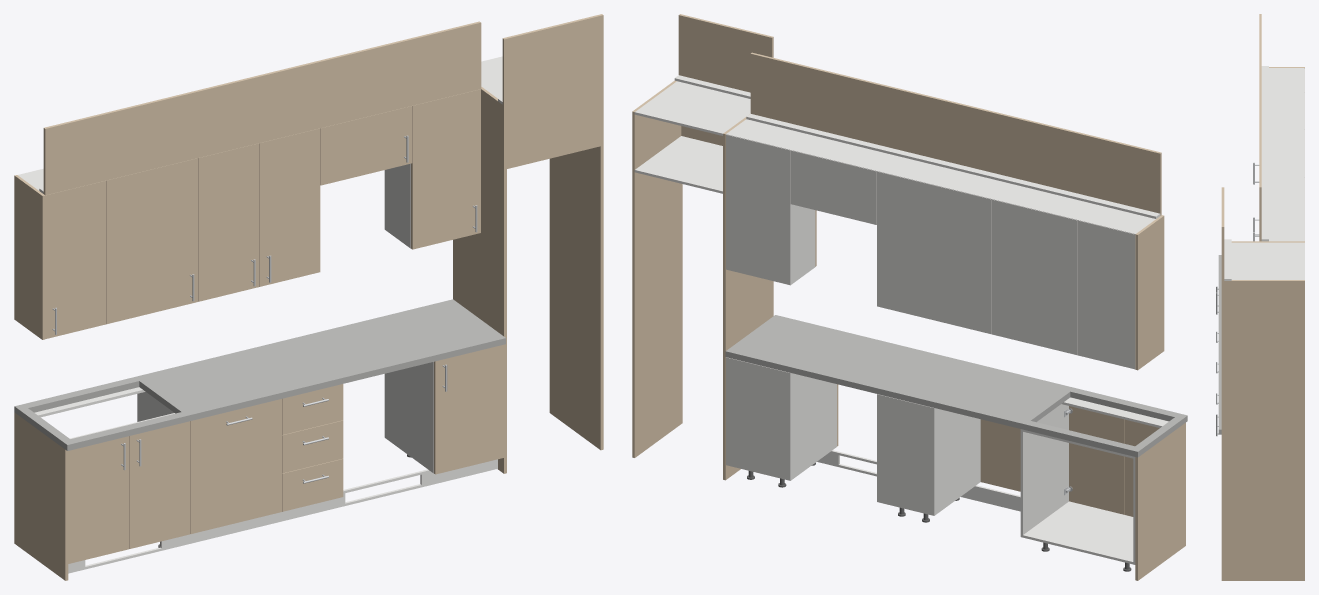
Rendered from kitchen_builtin.glb.
The picture shows the model from 3 angles, left to right: view 1: azimuth 30°, elevation 25°; view 2: azimuth 150°, elevation 25°; view 3: azimuth 270°, elevation 25°; orthographic projection. The views are drawn at different scales.
Visible parts, largest first — view 1: 50:countertop, 42:base[5].panel.right, 86:wall.top_filler[1], 88:wall.top_filler[2], 64:wall[1].doors.door[1], 8:base[1].dw_front, 85:wall[4].doors.door[1], 71:wall[2].doors.door[1], 72:wall[2].doors.door[2], 57:wall[0].doors.door[1], 41:base[5].panel.left, 40:base[4].doors.door[1] (+14 smaller); view 2: 50:countertop, 69:wall[2].back, 42:base[5].panel.right, 86:wall.top_filler[1], 88:wall.top_filler[2], 62:wall[1].back, 83:wall[4].back, 55:wall[0].back, 38:base[4].back, 46:base.side_panel.left, 14:base[2].back, 90:base.top_filler[3] (+22 smaller); view 3: 42:base[5].panel.right, 44:base[5].roof, 68:wall[2].top, 61:wall[1].top, 76:wall[3].top, 82:wall[4].top, 54:wall[0].top, 50:countertop, 89:wall.top_filler.strip[2], 87:wall.top_filler.strip[1], 88:wall.top_filler[2], 90:base.top_filler[3] (+3 smaller).
Part boxes in pixels (left/top/right/bottom): 50:countertop: left=14, top=299, right=505, bottom=450; 42:base[5].panel.right: left=549, top=81, right=603, bottom=450; 86:wall.top_filler[1]: left=43, top=74, right=263, bottom=195; 88:wall.top_filler[2]: left=262, top=21, right=481, bottom=141; 64:wall[1].doors.door[1]: left=106, top=158, right=197, bottom=324; 8:base[1].dw_front: left=190, top=399, right=282, bottom=533; 85:wall[4].doors.door[1]: left=411, top=89, right=480, bottom=249; 71:wall[2].doors.door[1]: left=198, top=143, right=259, bottom=301; 72:wall[2].doors.door[2]: left=259, top=128, right=320, bottom=286; 57:wall[0].doors.door[1]: left=45, top=180, right=106, bottom=338; 41:base[5].panel.left: left=453, top=87, right=506, bottom=473; 40:base[4].doors.door[1]: left=434, top=344, right=503, bottom=474; 50:countertop: left=725, top=315, right=1187, bottom=457; 69:wall[2].back: left=877, top=171, right=991, bottom=334; 42:base[5].panel.right: left=632, top=80, right=682, bottom=457; 86:wall.top_filler[1]: left=955, top=102, right=1161, bottom=215; 88:wall.top_filler[2]: left=750, top=52, right=956, bottom=163; 62:wall[1].back: left=992, top=199, right=1077, bottom=355; 83:wall[4].back: left=726, top=134, right=790, bottom=284; 55:wall[0].back: left=1078, top=220, right=1135, bottom=369; 38:base[4].back: left=726, top=357, right=790, bottom=480; 46:base.side_panel.left: left=1135, top=423, right=1185, bottom=580; 14:base[2].back: left=877, top=394, right=933, bottom=515; 90:base.top_filler[3]: left=678, top=14, right=773, bottom=92; 42:base[5].panel.right: left=1221, top=280, right=1304, bottom=580; 44:base[5].roof: left=1231, top=242, right=1304, bottom=279; 68:wall[2].top: left=1269, top=130, right=1304, bottom=176; 61:wall[1].top: left=1269, top=93, right=1304, bottom=127; 76:wall[3].top: left=1269, top=178, right=1304, bottom=212; 82:wall[4].top: left=1269, top=215, right=1304, bottom=240; 54:wall[0].top: left=1269, top=69, right=1304, bottom=91; 50:countertop: left=1218, top=255, right=1221, bottom=434; 89:wall.top_filler.strip[2]: left=1261, top=152, right=1268, bottom=241; 87:wall.top_filler.strip[1]: left=1261, top=66, right=1268, bottom=152; 88:wall.top_filler[2]: left=1259, top=100, right=1261, bottom=241; 90:base.top_filler[3]: left=1221, top=187, right=1224, bottom=280.
Bounding box in the file's own units: 3.52 × 2.71 × 0.6178.
